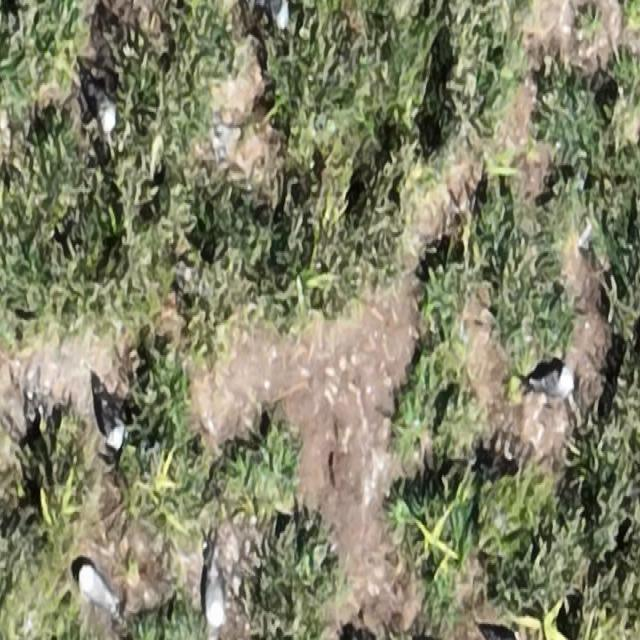umineko: (85, 68, 115, 131), (95, 384, 123, 450), (202, 551, 223, 627), (80, 570, 114, 609), (536, 370, 575, 397)
